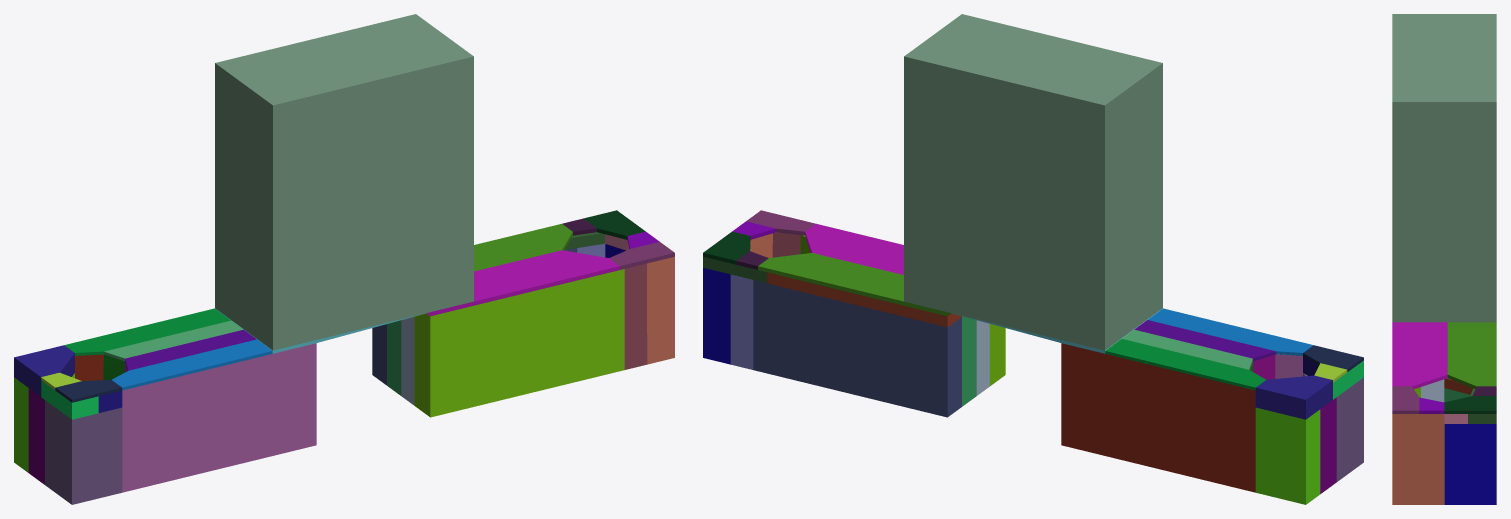
The model's file is board_2_1_canonical.obj.
The picture shows the model from 3 angles, left to right: view 1: azimuth 30°, elevation 25°; view 2: azimuth 150°, elevation 25°; view 3: azimuth 270°, elevation 25°; orthographic projection. The views are drawn at different scales.
Visible parts, largest first — view 1: geometry_0, geometry_4, geometry_7, geometry_1, geometry_22, geometry_9, geometry_29, geometry_30, geometry_33, geometry_13, geometry_18, geometry_27 (+11 smaller); view 2: geometry_0, geometry_15, geometry_16, geometry_17, geometry_30, geometry_22, geometry_33, geometry_18, geometry_5, geometry_29, geometry_1, geometry_31 (+11 smaller); view 3: geometry_0, geometry_9, geometry_5, geometry_22, geometry_30, geometry_25, geometry_28, geometry_6, geometry_32, geometry_19, geometry_31, geometry_24 (+2 smaller).
Part boxes in pixels (left/top/right/bottom): geometry_0: left=215, top=14, right=473, bottom=350; geometry_4: left=414, top=269, right=624, bottom=417; geometry_7: left=122, top=343, right=316, bottom=492; geometry_1: left=45, top=400, right=122, bottom=504; geometry_22: left=427, top=250, right=619, bottom=316; geometry_9: left=627, top=242, right=674, bottom=364; geometry_29: left=112, top=339, right=272, bottom=390; geometry_30: left=474, top=223, right=572, bottom=271; geometry_33: left=64, top=308, right=230, bottom=355; geometry_13: left=624, top=263, right=647, bottom=369; geometry_18: left=14, top=345, right=74, bottom=396; geometry_27: left=125, top=329, right=256, bottom=370; geometry_0: left=904, top=14, right=1162, bottom=350; geometry_15: left=1061, top=343, right=1255, bottom=492; geometry_16: left=753, top=280, right=961, bottom=417; geometry_17: left=1255, top=407, right=1320, bottom=504; geometry_30: left=758, top=253, right=950, bottom=316; geometry_22: left=805, top=223, right=903, bottom=274; geometry_33: left=1105, top=339, right=1266, bottom=390; geometry_18: left=1255, top=375, right=1332, bottom=419; geometry_5: left=703, top=267, right=730, bottom=364; geometry_29: left=1148, top=308, right=1313, bottom=355; geometry_1: left=1303, top=373, right=1363, bottom=481; geometry_31: left=767, top=272, right=961, bottom=327; geometry_0: left=1392, top=14, right=1496, bottom=322; geometry_9: left=1392, top=414, right=1444, bottom=504; geometry_5: left=1444, top=424, right=1496, bottom=504; geometry_22: left=1392, top=322, right=1447, bottom=388; geometry_30: left=1447, top=322, right=1496, bottom=389; geometry_25: left=1444, top=396, right=1496, bottom=413; geometry_28: left=1392, top=386, right=1419, bottom=413; geometry_6: left=1421, top=379, right=1444, bottom=402; geometry_32: left=1419, top=397, right=1444, bottom=413; geometry_19: left=1468, top=388, right=1496, bottom=423; geometry_31: left=1444, top=378, right=1472, bottom=394; geometry_24: left=1444, top=414, right=1467, bottom=423.
Bounding box in the file's own units: 0.18 × 0.1 × 0.03.
